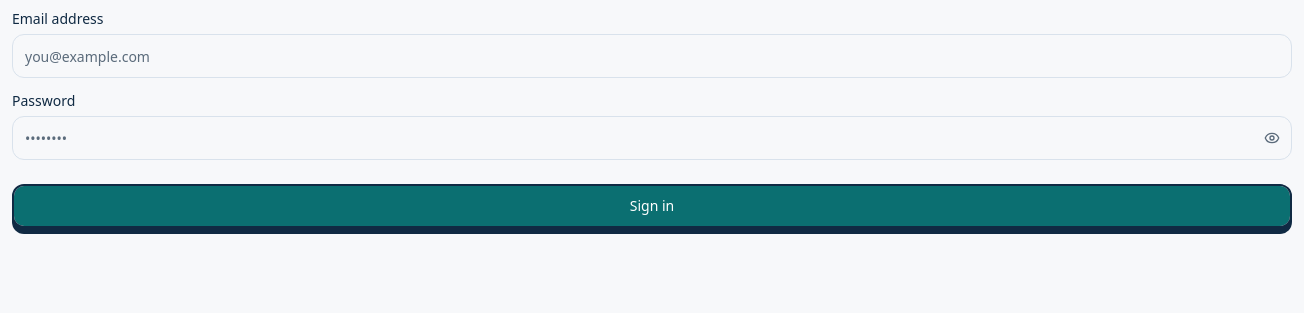
Test: LoginForm › shows a resend-verification link when login returns EMAIL_NOT_VERIFIED
Type "ahmed@example.com" into the field labelled "Email address" at (652, 56), box [12,34,1292,78]
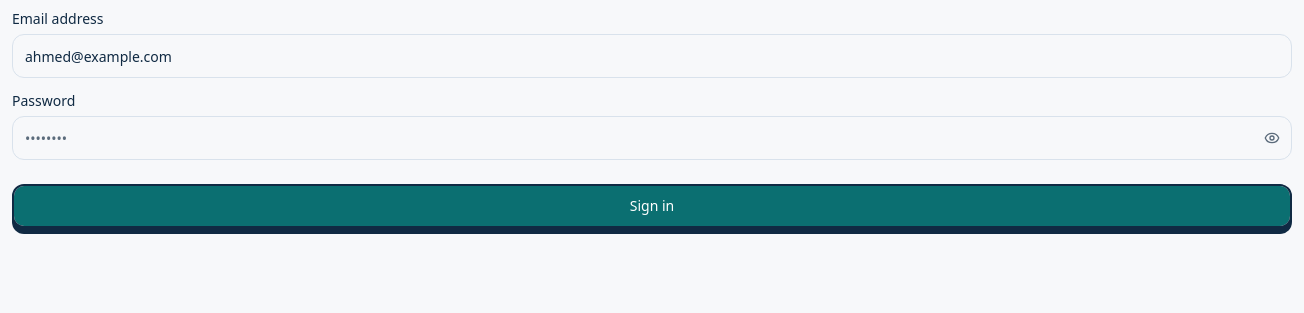
Type "password123" into the password field labelled "Password" at (652, 138), box [12,116,1292,160]
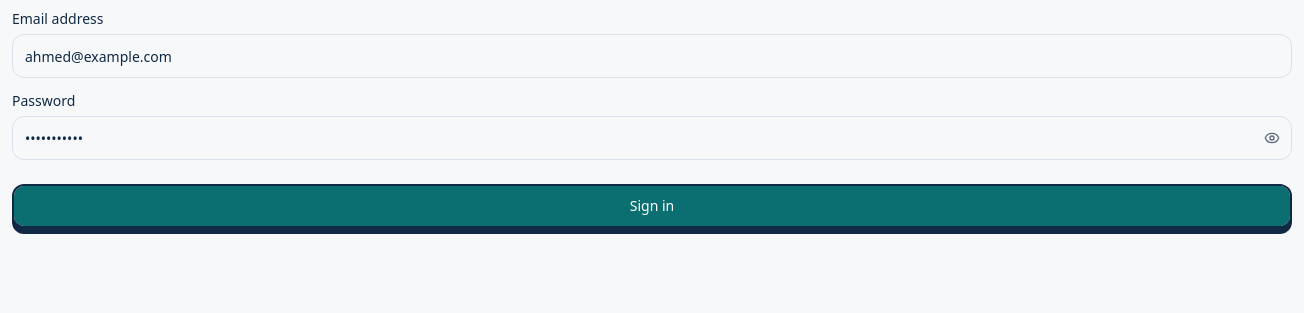
Click the button "Sign in" at (652, 206), box [12,184,1292,228]
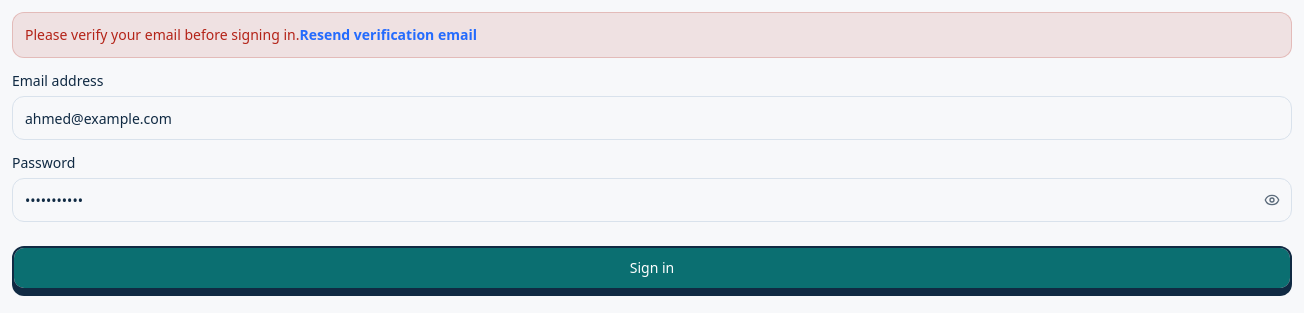
Check: the text "Please verify your email before signing in." is shown, box [25,25,299,44]
